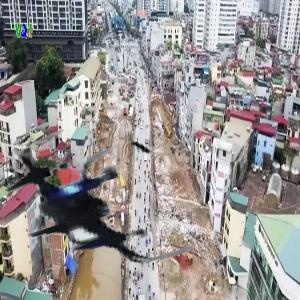drone: (7, 123, 176, 292)
